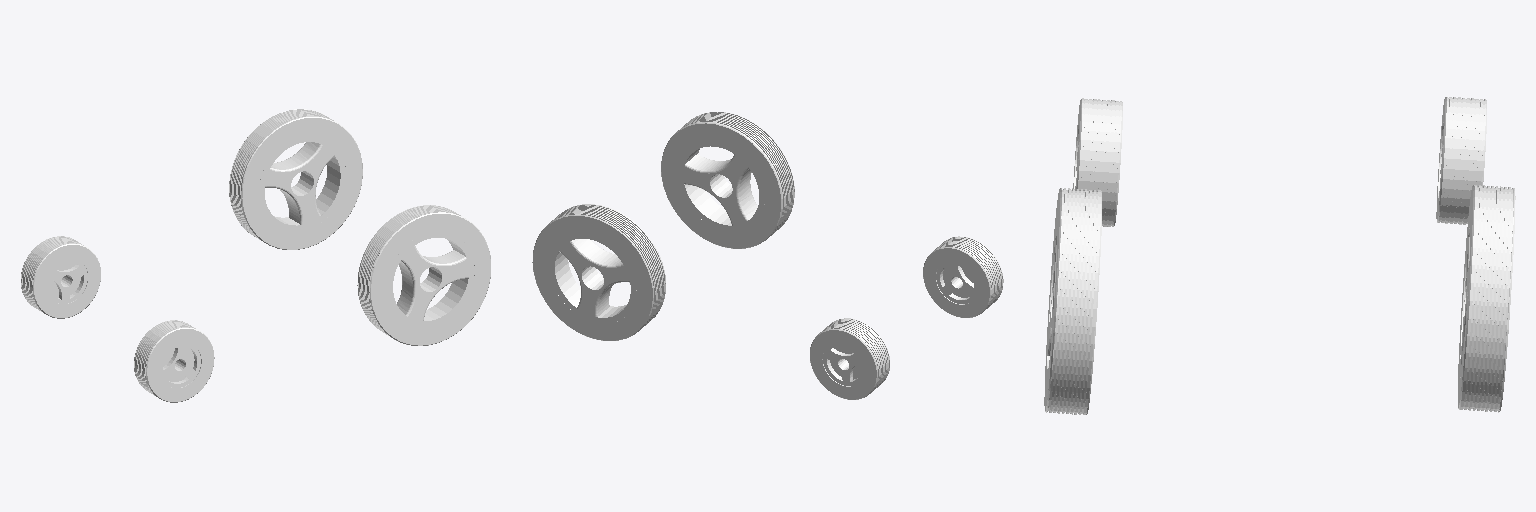
robot.urdf — wheelchair:
<?xml version="1.0" encoding="utf-8"?>
<!-- This URDF was automatically created by SolidWorks to URDF Exporter! Originally created by [author] ([email redacted]) 
     Commit Version: 1.5.1-0-g916b5db  Build Version: 1.5.7152.31018
     For more information, please see http://wiki.ros.org/sw_urdf_exporter -->
<robot
  name="wheelchair">
  <link
    name="base_link">
    <inertial>
      <origin
        xyz="-0.078141 0.0020322 0.12611"
        rpy="1.5 0 0" />
      <mass
        value="196.41" />
      <inertia
        ixx="36.206"
        ixy="0.05605"
        ixz="3.1325"
        iyy="40.972"
        iyz="-0.14513"
        izz="14.592" />
    </inertial>
    <visual>
      <origin
        xyz="0 0 0"
        rpy="1.5 0 0" />
      <geometry>
        <mesh
          filename="package://carter_description/urdf/meshes/base_link.obj" />
      </geometry>
      <material
        name="">
        <color
          rgba="1 1 1 1" />
      </material>
    </visual>
    <collision>
      <origin
        xyz="-0.078141 0.0020322 0.12611"
        rpy="1.5 0 0" />
      <geometry>
        <mesh
          filename="package://carter_description/urdf/meshes/base_link.obj" />
      </geometry>
    </collision>
  </link>
  <link
    name="Left_front_Link">
    <inertial>
      <origin
        xyz="0.00018872 -0.032528 0.00021154"
        rpy="1.5 0 0" />
      <mass
        value="3.5572" />
      <inertia
        ixx="0.027884"
        ixy="-1.9059E-08"
        ixz="1.3976E-06"
        iyy="0.053488"
        iyz="-2.1364E-08"
        izz="0.027737" />
    </inertial>
    <visual>
      <origin
        xyz="0 0 0"
        rpy="1.5 0 0" />
      <geometry>
        <mesh
          filename="package://carter_description/urdf/meshes/Left_front_Link.obj" />
      </geometry>
      <material
        name="">
        <color
          rgba="1 1 1 1" />
      </material>
    </visual>
    <collision>
      <origin
        xyz="0.00018872 -0.032528 0.00021154"
        rpy="1.5 0 0" />
      <geometry>
        <mesh
          filename="package://carter_description/urdf/meshes/Left_front_Link.obj" />
      </geometry>
    </collision>
  </link>
  <joint
    name="Left_front_Joint"
    type="continuous">
    <origin
      xyz="0.16205 0.325 -0.48811"
      rpy="0 -0.018363 0" />
    <parent
      link="base_link" />
    <child
      link="Left_front_Link" />
    <axis
      xyz="0 1 0" />
  </joint>
  <link
    name="Left_behind_Link">
    <inertial>
      <origin
        xyz="2.673E-05 -0.0195 4.0068E-05"
        rpy="1.5 0 0" />
      <mass
        value="1.3518" />
      <inertia
        ixx="0.003306"
        ixy="-9.1911E-19"
        ixz="-3.2581E-07"
        iyy="0.0058713"
        iyz="-1.0703E-19"
        izz="0.0033095" />
    </inertial>
    <visual>
      <origin
        xyz="0 0 0"
        rpy="1.5 0 0" />
      <geometry>
        <mesh
          filename="package://carter_description/urdf/meshes/Left_behind_Link.obj" />
      </geometry>
      <material
        name="">
        <color
          rgba="1 1 1 1" />
      </material>
    </visual>
    <collision>
      <origin
        xyz="2.673E-05 -0.0195 4.0068E-05"
        rpy="1.5 0 0" />
      <geometry>
        <mesh
          filename="package://carter_description/urdf/meshes/Left_behind_Link.obj" />
      </geometry>
    </collision>
  </link>
  <joint
    name="Left_behind_Joint"
    type="continuous">
    <origin
      xyz="-0.47656 0.27725 -0.56985"
      rpy="0 -0.018363 0" />
    <parent
      link="base_link" />
    <child
      link="Left_behind_Link" />
    <axis
      xyz="0 1 0" />
  </joint>
  <link
    name="Right_front_Link">
    <inertial>
      <origin
        xyz="-0.00016288 0.032528 -0.00023202"
        rpy="1.5 0 0" />
      <mass
        value="3.5572" />
      <inertia
        ixx="0.027727"
        ixy="-1.6449E-08"
        ixz="1.3976E-06"
        iyy="0.053488"
        iyz="-2.3432E-08"
        izz="0.027893" />
    </inertial>
    <visual>
      <origin
        xyz="0 0 0"
        rpy="1.5 0 0" />
      <geometry>
        <mesh
          filename="package://carter_description/urdf/meshes/Right_front_Link.obj" />
      </geometry>
      <material
        name="">
        <color
          rgba="1 1 1 1" />
      </material>
    </visual>
    <collision>
      <origin
        xyz="-0.00016288 0.032528 -0.00023202"
        rpy="1.5 0 0" />
      <geometry>
        <mesh
          filename="package://carter_description/urdf/meshes/Right_front_Link.obj" />
      </geometry>
    </collision>
  </link>
  <joint
    name="Right_front_Joint"
    type="continuous">
    <origin
      xyz="0.16205 -0.325 -0.48811"
      rpy="0 -0.018363 0" />
    <parent
      link="base_link" />
    <child
      link="Right_front_Link" />
    <axis
      xyz="0 1 0" />
  </joint>
  <link
    name="Right_behind_Link">
    <inertial>
      <origin
        xyz="-2.673E-05 -0.0195 4.0068e-05"
        rpy="1.5 0 0" />
      <mass
        value="1.3518" />
      <inertia
        ixx="0.003306"
        ixy="-9.1911E-19"
        ixz="-3.2581E-07"
        iyy="0.0058713"
        iyz="-1.0703E-19"
        izz="0.0033095" />
    </inertial>
    <visual>
      <origin
        xyz="0 0 0"
        rpy="1.5 0 0" />
      <geometry>
        <mesh
          filename="package://carter_description/urdf/meshes/Right_behind_Link.obj" />
      </geometry>
      <material
        name="">
        <color
          rgba="1 1 1 1" />
      </material>
    </visual>
    <collision>
      <origin
        xyz="-2.673E-05 -0.0195 4.0068e-05"
        rpy="1.5 0 0" />
      <geometry>
        <mesh
          filename="package://carter_description/urdf/meshes/Right_behind_Link.obj" />
      </geometry>
    </collision>
  </link>
  <joint
    name="Right_behind_Joint"
    type="continuous">
    <origin
      xyz="-0.47656 -0.27775 -0.56985"
      rpy="0 -0.018363 0" />
    <parent
      link="base_link" />
    <child
      link="Right_behind_Link" />
    <axis
      xyz="0 -1 0" />
  </joint>
  <!--
  <joint
     name="camera_joint" type="fixed">
     <parent link="base_link" />
     <child link="Zed2i_link" />
     <origin
        xyz="0.21738 0.30495 0.58918"
        rpy="0 0 90" />
  </joint>
  <link
      name="Zed2i_link" >
      <inertial>
         <origin
            xyz="-0.0043975 0 -1.3878E-17"
            rpy="0 0 0" />
         <mass
            value="0.29878" />
         <inertia
            ixx="0.00088503"
            ixy="-1.8482E-20"
            ixz="=8.1315E-20"
            iyy="0.00017432"
            iyz="6.4186E-20"
            izz="0.00074329" />
      </inertial>
      <visual>
         <origin
            xyz="0 0 0"
            rpy="0 0 0" />
         <geometry>
            <mesh
               filename="package://carter_description/urdf/meshes/ZED2i.obj" scale="0.001 0.001 0.001"/>
         </geometry>
         <material
            name="" >
               <color
                  rgba="1 1 1 1" />
         </material>
      </visual>
      <collision>
         <origin
            xyz="0 0 0"
            rpy="0 0 0" />
         <geometry>
            <mesh
                filename="package://carter_description/urdf/meshes/ZED2i.obj" scale="0.001 0.001 0.001" />
         </geometry>
      </collision>
  </link>
          -->                                                              	
</robot>

--- Facts derived from the render (not from the file) ---
Views: 3 orthographic renders of the robot side by side, from view 1: azimuth 30°, elevation 25°; view 2: azimuth 150°, elevation 25°; view 3: azimuth 270°, elevation 25°.
Model wheelchair with 5 links and 4 joints (4 continuous), rooted at base_link, posed all joints at 0.
Links seen in each view (by area): view 1: Left_front_Link, Right_front_Link, Left_behind_Link, Right_behind_Link; view 2: Right_front_Link, Left_front_Link, Left_behind_Link, Right_behind_Link; view 3: Left_front_Link, Right_front_Link, Left_behind_Link, Right_behind_Link.
Link boxes in pixels (left/top/right/bottom): Left_front_Link: left=229, top=109, right=362, bottom=249; Right_front_Link: left=357, top=205, right=490, bottom=345; Left_behind_Link: left=21, top=236, right=100, bottom=318; Right_behind_Link: left=134, top=320, right=214, bottom=402; Right_front_Link: left=661, top=112, right=794, bottom=248; Left_front_Link: left=532, top=204, right=665, bottom=340; Left_behind_Link: left=810, top=318, right=889, bottom=399; Right_behind_Link: left=923, top=236, right=1003, bottom=317; Left_front_Link: left=1458, top=185, right=1515, bottom=412; Right_front_Link: left=1044, top=188, right=1101, bottom=414; Left_behind_Link: left=1436, top=97, right=1486, bottom=224; Right_behind_Link: left=1073, top=98, right=1122, bottom=226.
Bounding box of the posed robot: 0.8886 × 0.6673 × 0.3386 m (x, y, z).
4 mesh visuals loaded from 5 distinct referenced files (4 OBJ); not drawn: 1 (reference not matched to a file when rendering).
